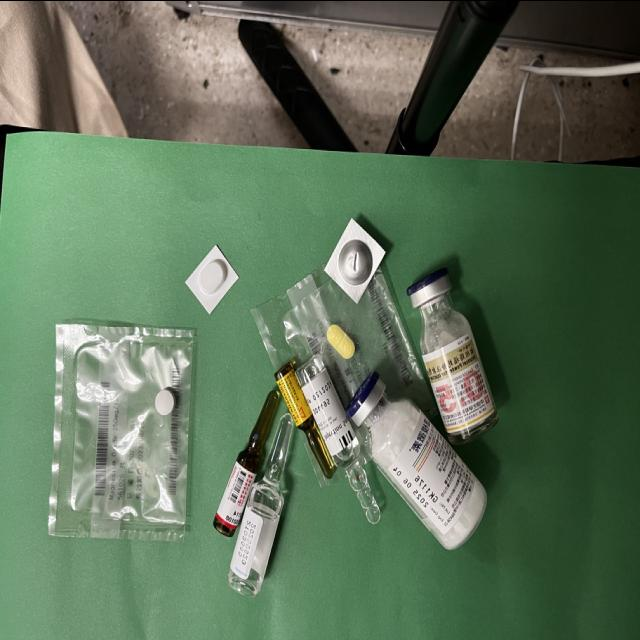Ampoules: (295, 351, 382, 523), (228, 412, 296, 595), (214, 385, 280, 536), (274, 360, 336, 477)
Vials: (347, 370, 486, 547), (406, 267, 498, 443)
